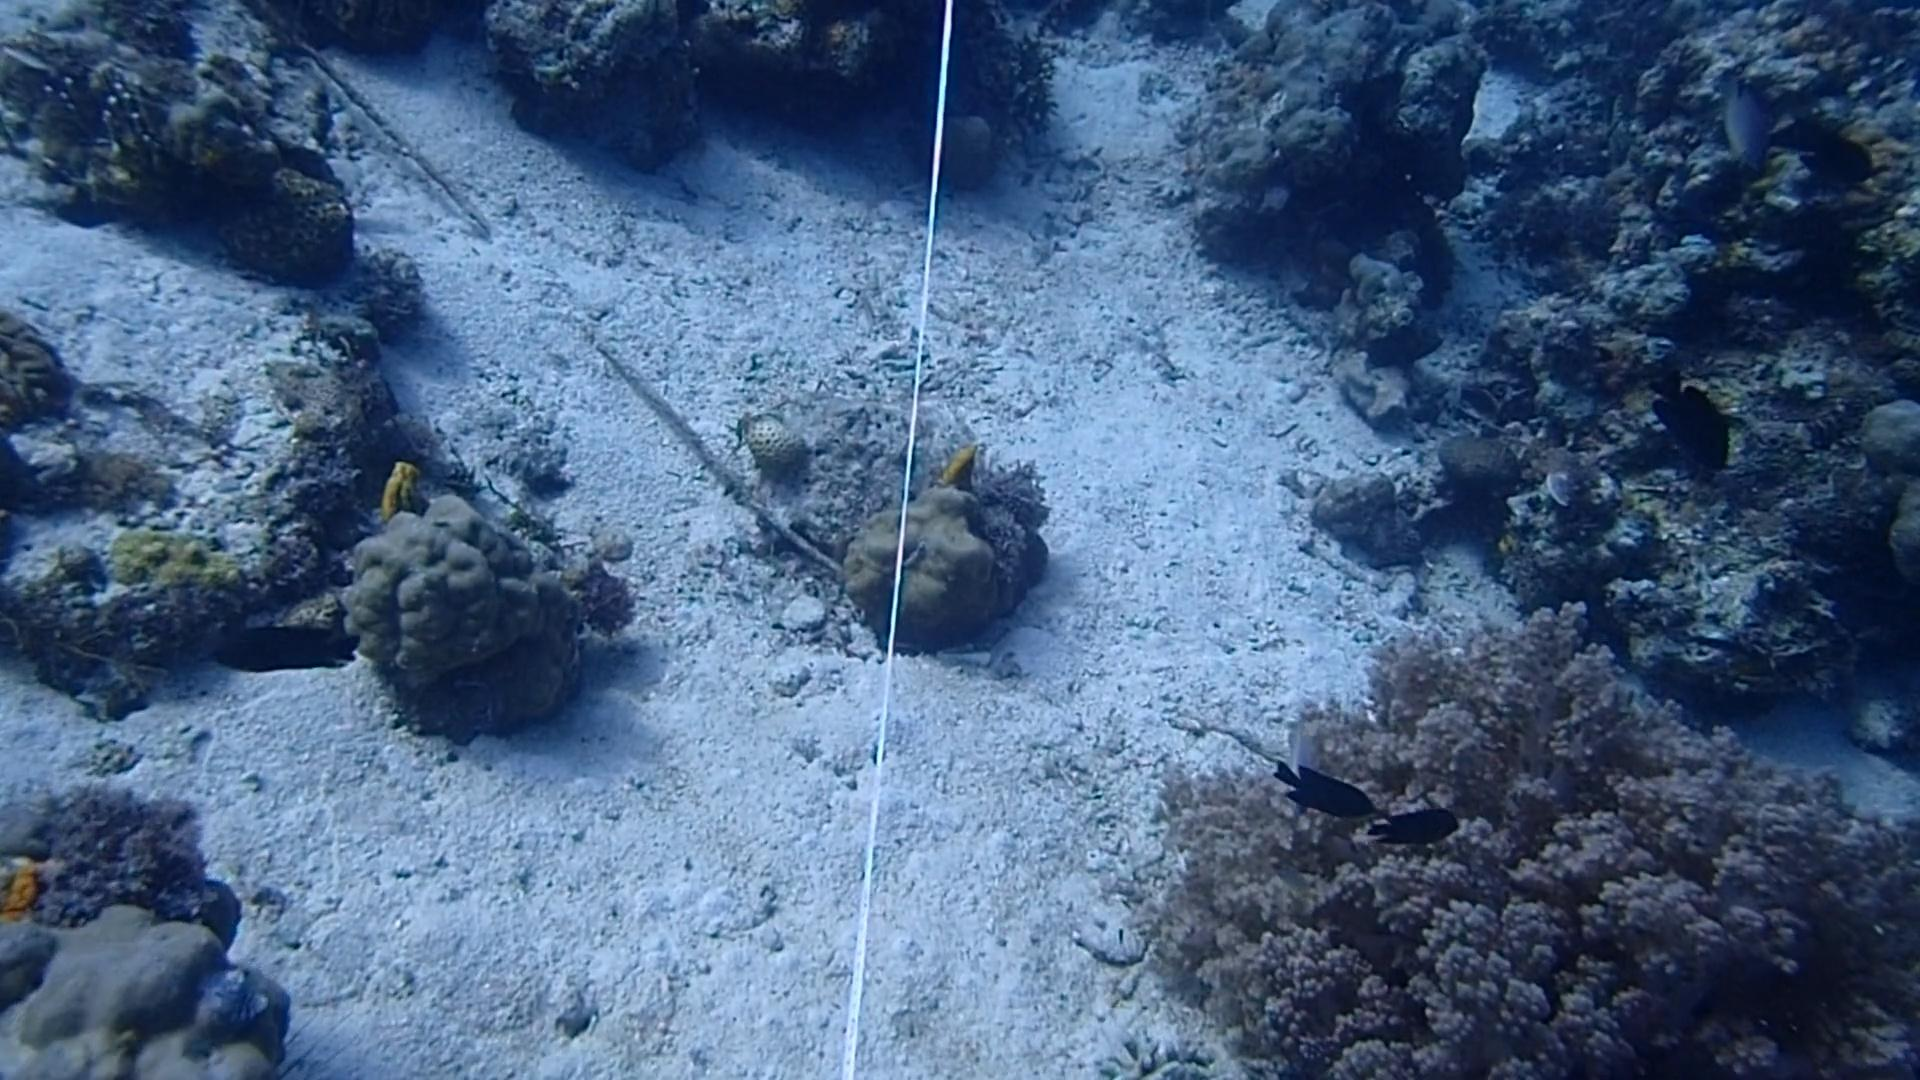Dark Fish: (1630, 352, 1735, 471), (207, 607, 360, 684), (1259, 744, 1386, 832), (1349, 791, 1466, 858), (1788, 117, 1875, 203)
Light Fish: (1254, 715, 1341, 827), (1709, 73, 1776, 170)
